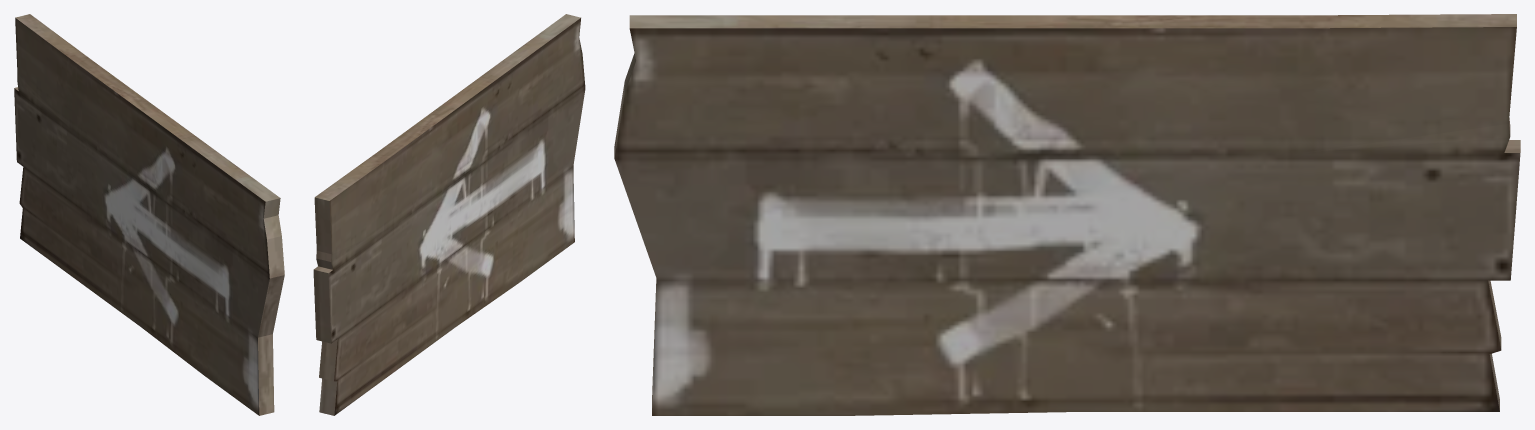
The picture shows the model from 3 angles, left to right: view 1: azimuth 30°, elevation 25°; view 2: azimuth 150°, elevation 25°; view 3: azimuth 270°, elevation 25°; orthographic projection. The views are drawn at different scales.
Visible parts, largest first — view 1: body0_model0_lod0_mesh0; view 2: body0_model0_lod0_mesh0; view 3: body0_model0_lod0_mesh0.
Boxes of the visible parts, <box> form: body0_model0_lod0_mesh0: <box>14,14,284,415</box>; body0_model0_lod0_mesh0: <box>313,14,585,415</box>; body0_model0_lod0_mesh0: <box>614,14,1520,415</box>.
Size of the model in its own units: 6.01 by 82.75 by 175.
1 material, 1 textured.
